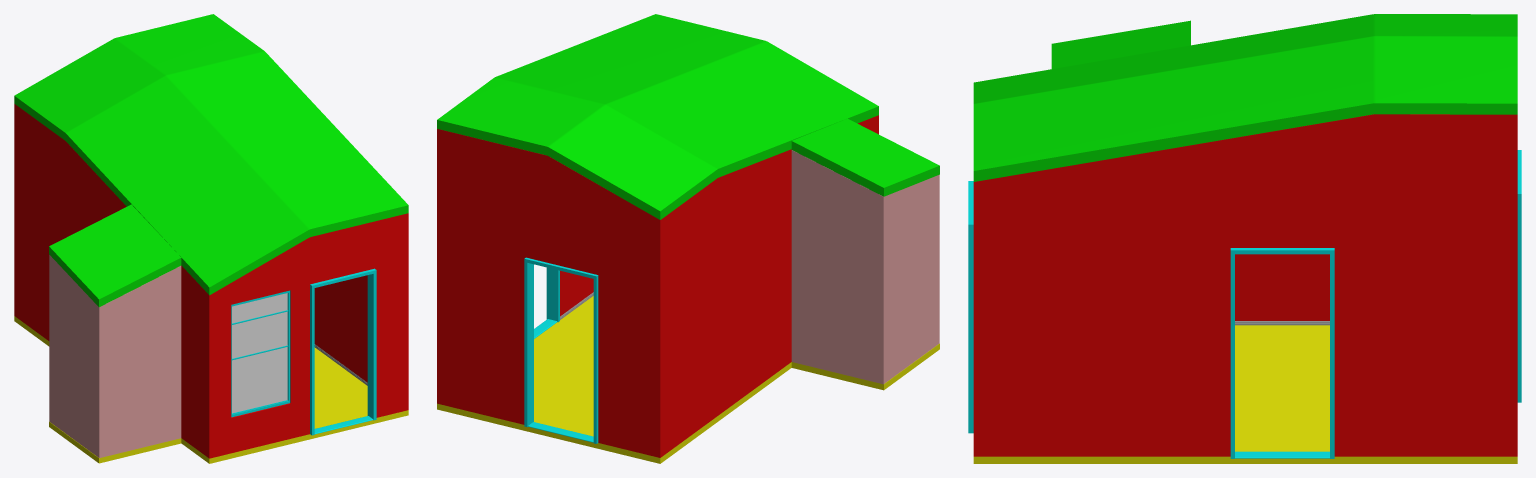
Rendered from FloorPlan529_physics.fbx.
The picture shows the model from 3 angles, left to right: view 1: azimuth 30°, elevation 25°; view 2: azimuth 150°, elevation 25°; view 3: azimuth 270°, elevation 25°; orthographic projection. The views are drawn at different scales.
Parts seen in each view (by area): view 1: FP529:Ceiling_1, FP529:Walls_1, FP529:Walls_2, FP529:Ceiling_2, FP529:WindowPane_1, FP529:Floor_1, FP529:DoorFrame_1, FP529:WindowFrame_1, FP529:Floor_2; view 2: FP529:Walls_1, FP529:Ceiling_1, FP529:Walls_2, FP529:Floor_1, FP529:Ceiling_2, FP529:DoorFrame_3, FP529:Floor_2, FP529:DoorFrame_2; view 3: FP529:Walls_1, FP529:Ceiling_1, FP529:Floor_1, FP529:Ceiling_2, FP529:DoorFrame_2, FP529:DoorFrame_1, FP529:DoorFrame_3, FP529:Floorboard_2.
Boxes of the visible parts, <box> form: FP529:Ceiling_1: <box>14,14,408,295</box>; FP529:Walls_1: <box>14,104,408,458</box>; FP529:Walls_2: <box>49,255,181,457</box>; FP529:Ceiling_2: <box>49,204,181,307</box>; FP529:WindowPane_1: <box>232,293,287,413</box>; FP529:Floor_1: <box>14,316,408,463</box>; FP529:DoorFrame_1: <box>310,268,376,435</box>; FP529:WindowFrame_1: <box>231,290,290,417</box>; FP529:Floor_2: <box>49,421,181,463</box>; FP529:Walls_1: <box>437,115,878,457</box>; FP529:Ceiling_1: <box>437,14,878,219</box>; FP529:Walls_2: <box>791,150,939,384</box>; FP529:Floor_1: <box>437,296,791,463</box>; FP529:Ceiling_2: <box>791,118,939,196</box>; FP529:DoorFrame_3: <box>524,257,598,443</box>; FP529:Floor_2: <box>791,343,939,390</box>; FP529:DoorFrame_2: <box>546,267,559,322</box>; FP529:Walls_1: <box>973,114,1517,456</box>; FP529:Ceiling_1: <box>973,14,1517,181</box>; FP529:Floor_1: <box>973,325,1517,463</box>; FP529:Ceiling_2: <box>1051,20,1190,68</box>; FP529:DoorFrame_2: <box>1230,248,1334,458</box>; FP529:DoorFrame_1: <box>968,181,973,433</box>; FP529:DoorFrame_3: <box>1517,150,1521,402</box>; FP529:Floorboard_2: <box>1235,451,1329,458</box>.
Size of the model in its own units: 411 by 356 by 495.
